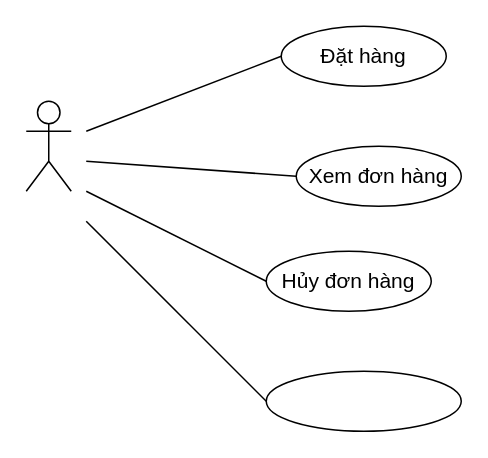
This 488x458 diagram has some shape labels left out. The shapes that lost their labels are listed below. From the top down, each one's centre as x and y in pixels, then its label:
At pixel 48 145: "User".
At pixel 363 400: "Lịch sử đơn hàng".
